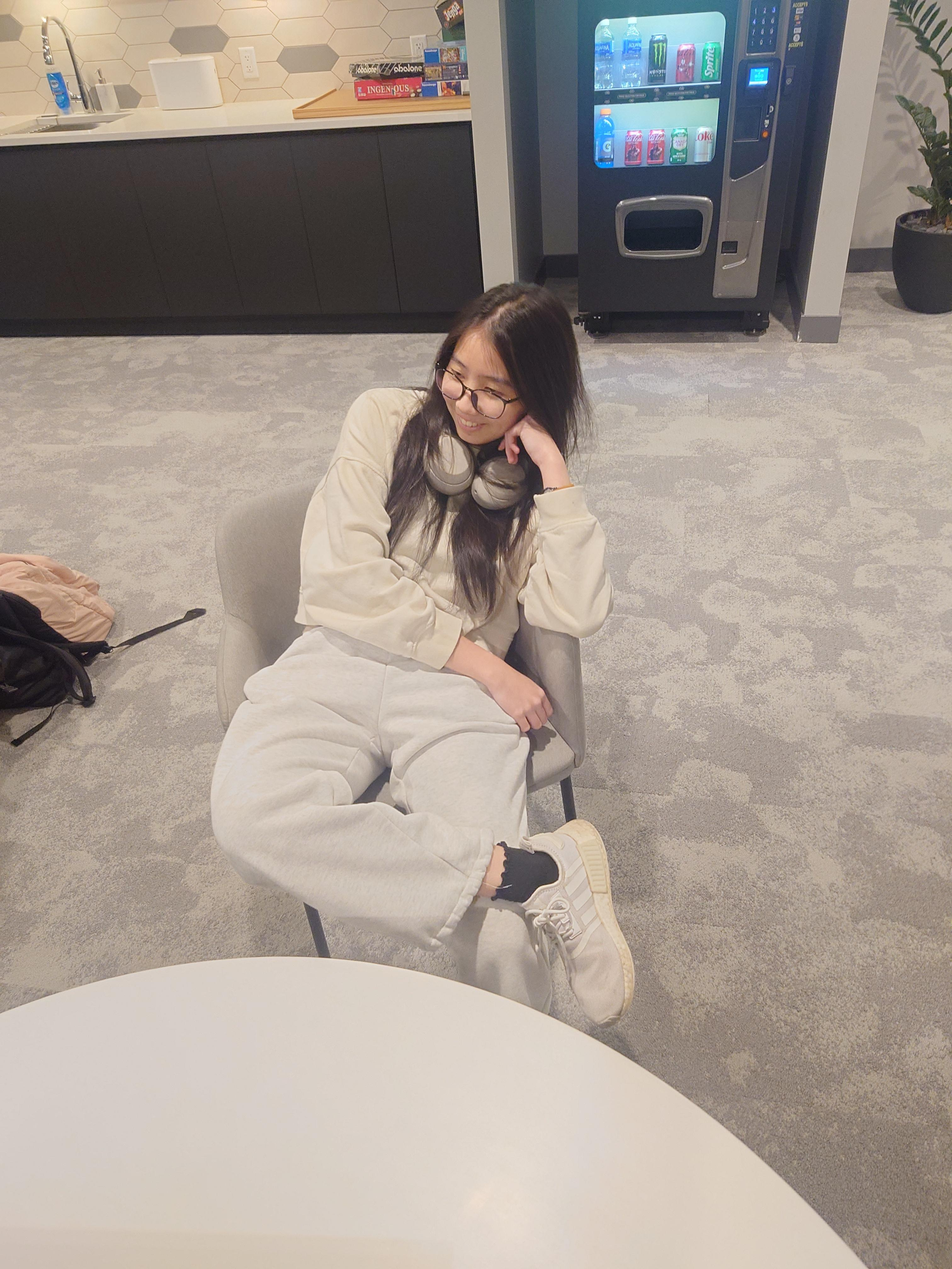BadPosture: (209, 278, 632, 1023)
